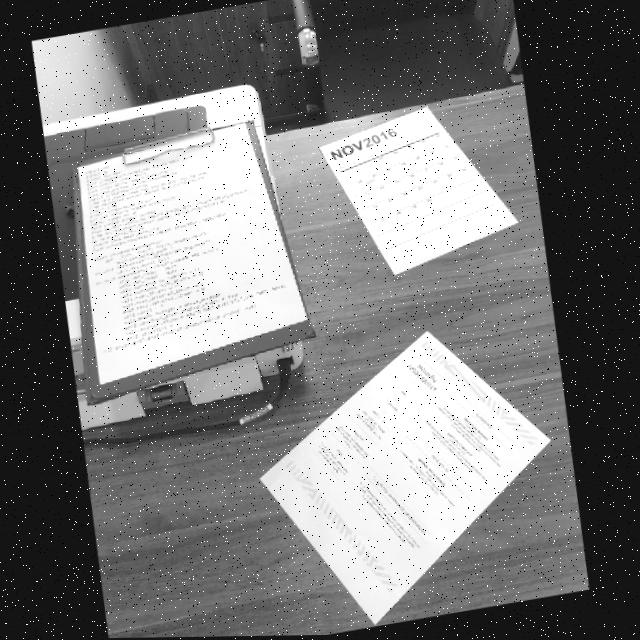document: (261, 332, 550, 624), (78, 123, 308, 385), (320, 107, 518, 275)
